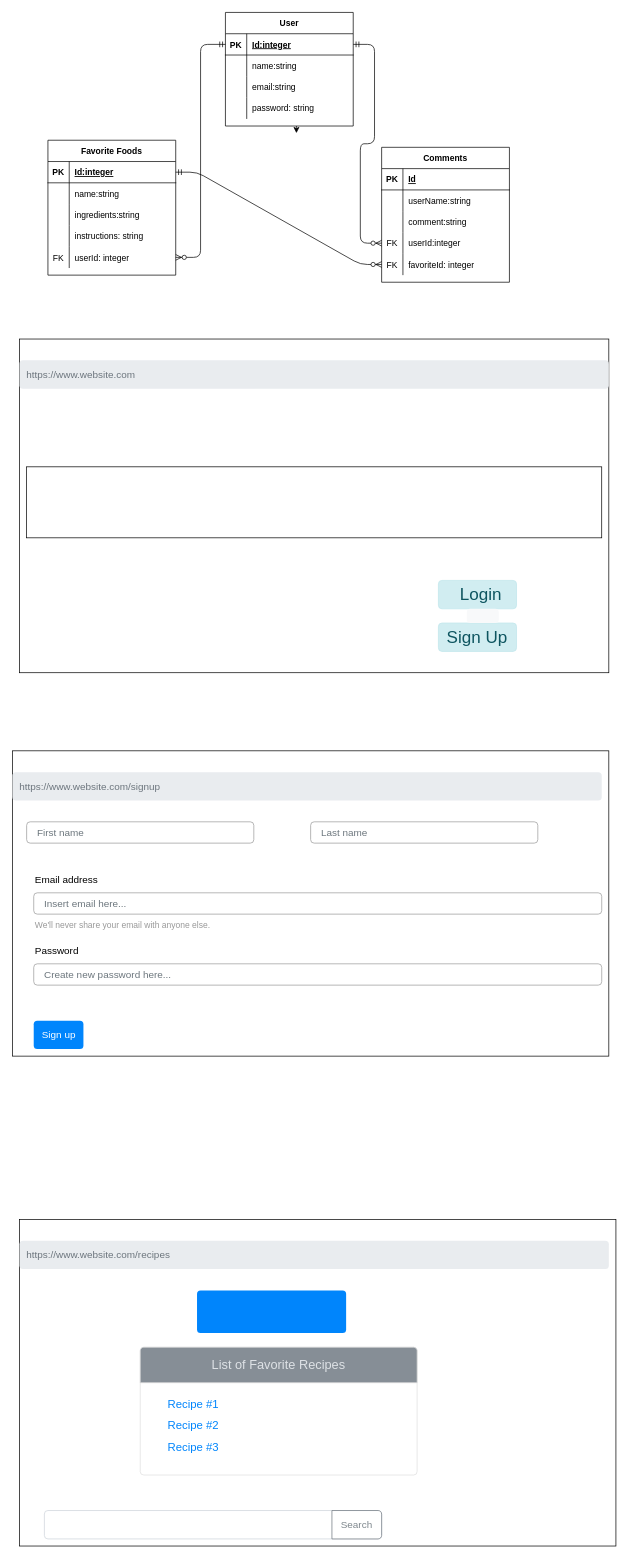
Image size: 628x1558. Some labels were removed from this diagram. The centre of each missing label's shape, as x and y in pixels:
"Dinner Recipes" goes at pixel 314 502.
"or" goes at pixel 482 615.
"Search for recipes..." goes at pixel 213 1524.
"User's Email" goes at pixel 271 1311.
